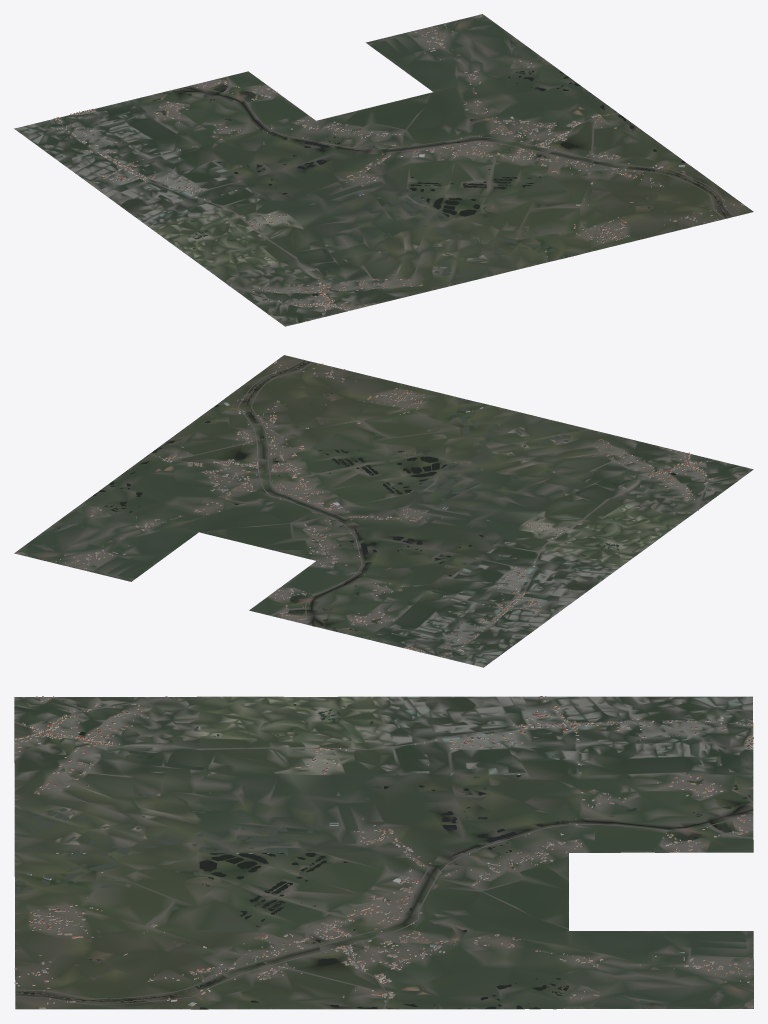
3 renders of one model, top to bottom at view 1: azimuth 30°, elevation 25°; view 2: azimuth 150°, elevation 25°; view 3: azimuth 270°, elevation 25°, orthographic. The views are drawn at different scales.
Parts seen in each view (by area): view 1: ground, buildings, water, roads; view 2: ground, buildings, water, roads; view 3: ground, buildings, water, roads.
Part boxes in pixels (x1,y1,x2,y2): ground: [14, 14, 753, 326]; buildings: [53, 14, 744, 320]; water: [152, 26, 729, 322]; roads: [35, 76, 734, 317]; ground: [14, 355, 753, 667]; buildings: [17, 361, 745, 657]; water: [40, 361, 738, 652]; roads: [149, 359, 716, 662]; ground: [14, 696, 753, 1009]; buildings: [14, 696, 753, 1008]; water: [14, 700, 750, 1009]; roads: [14, 696, 753, 1009].
Size of the model in its own units: 5624 by 29.18 by 5617.
